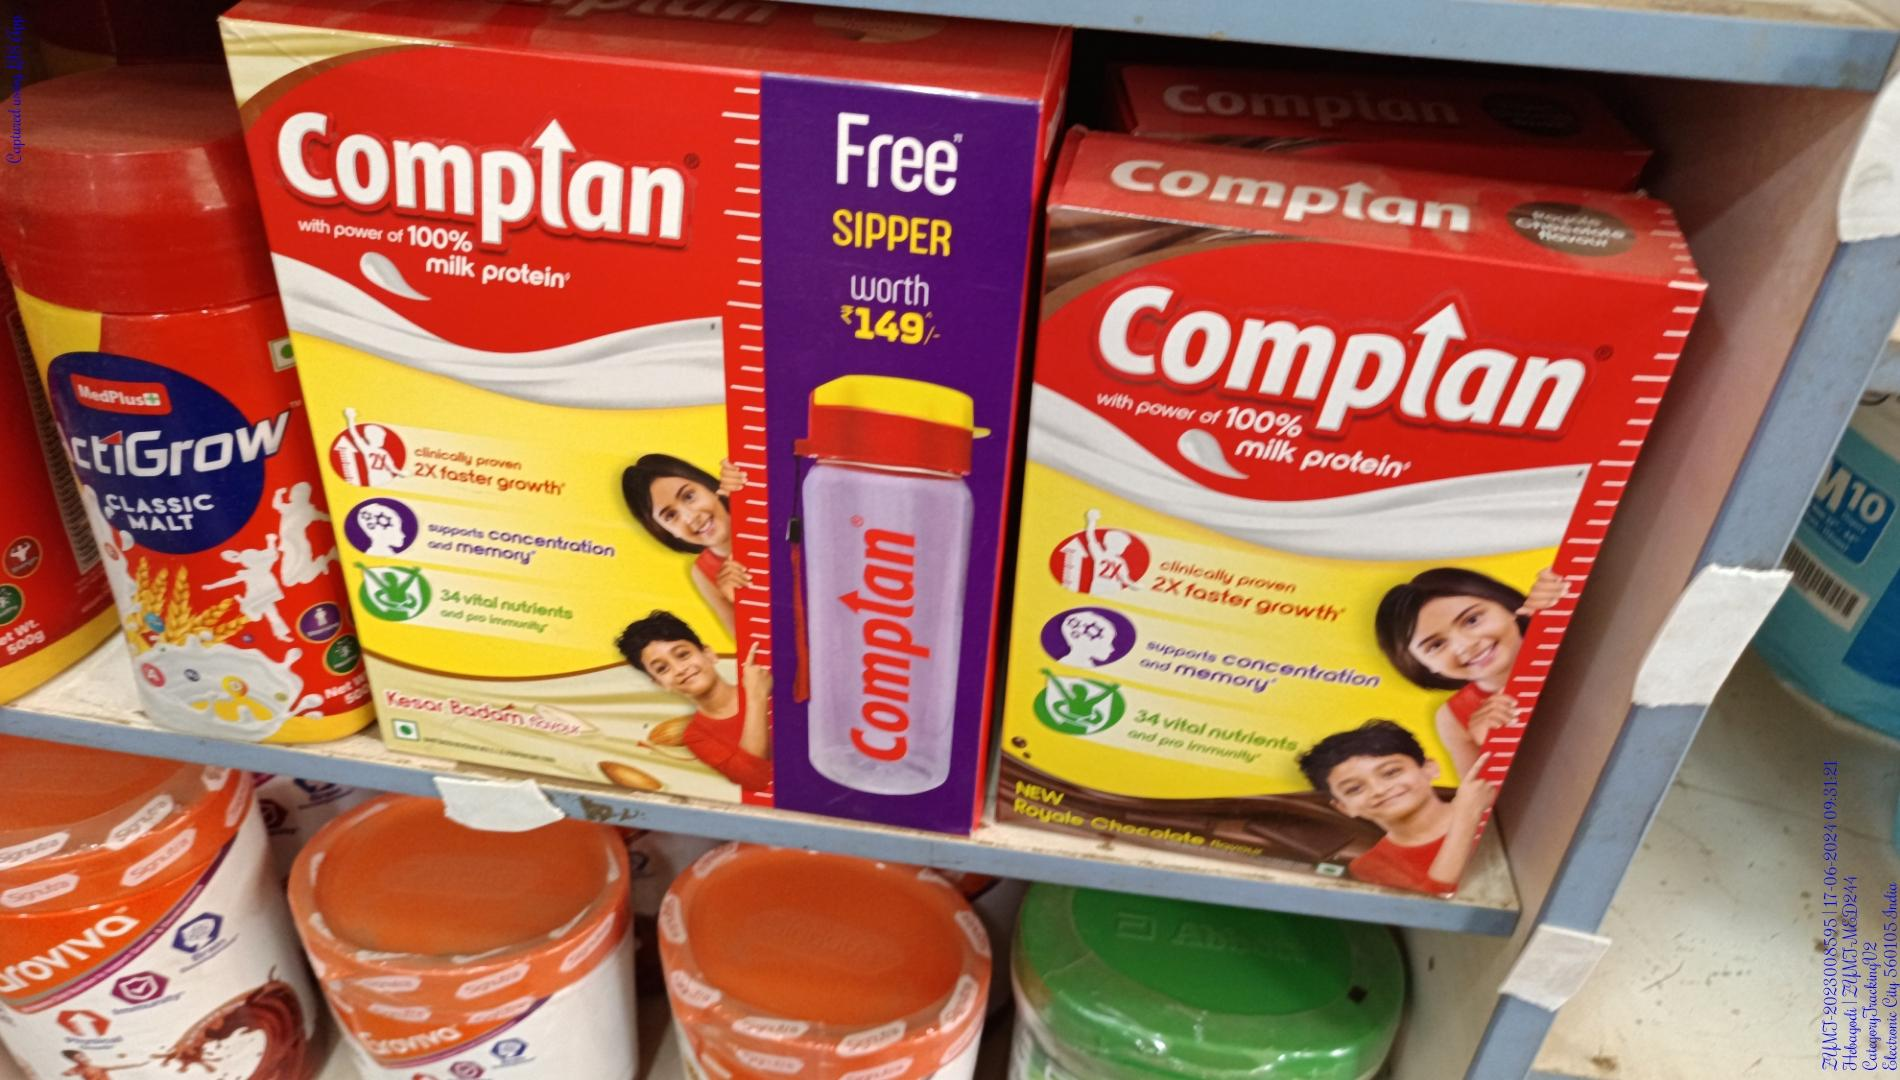COMPLAN_CHOCOLATE_500_GMS_PACK: (1031, 193, 1524, 873)
COMPLAN_KESAR_BADAM_500_GMS_PACK: (292, 23, 979, 817)
